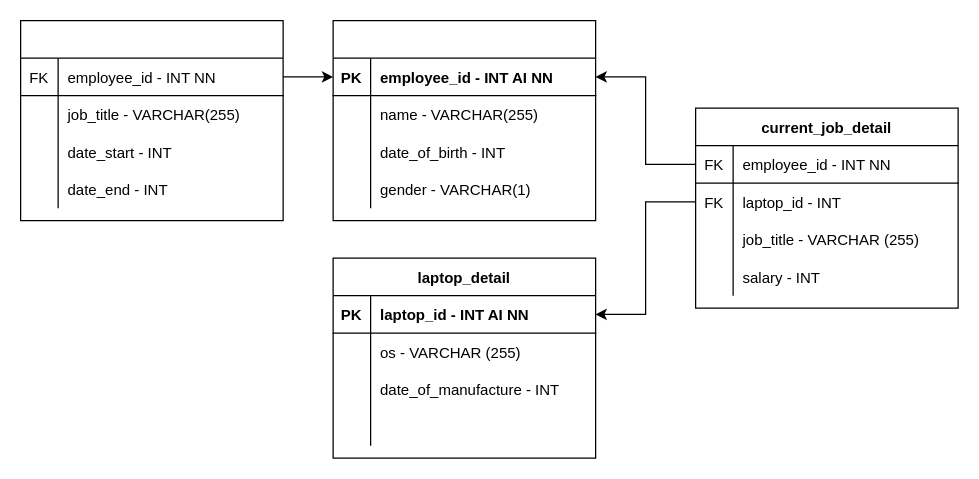
The diagram is 979 pixels wide and 479 high, and some of its shapes have lost their labels. Each missing label, with the box of its shape:
employee_detail: (332, 19, 596, 221)
jobs_history: (19, 19, 283, 221)
